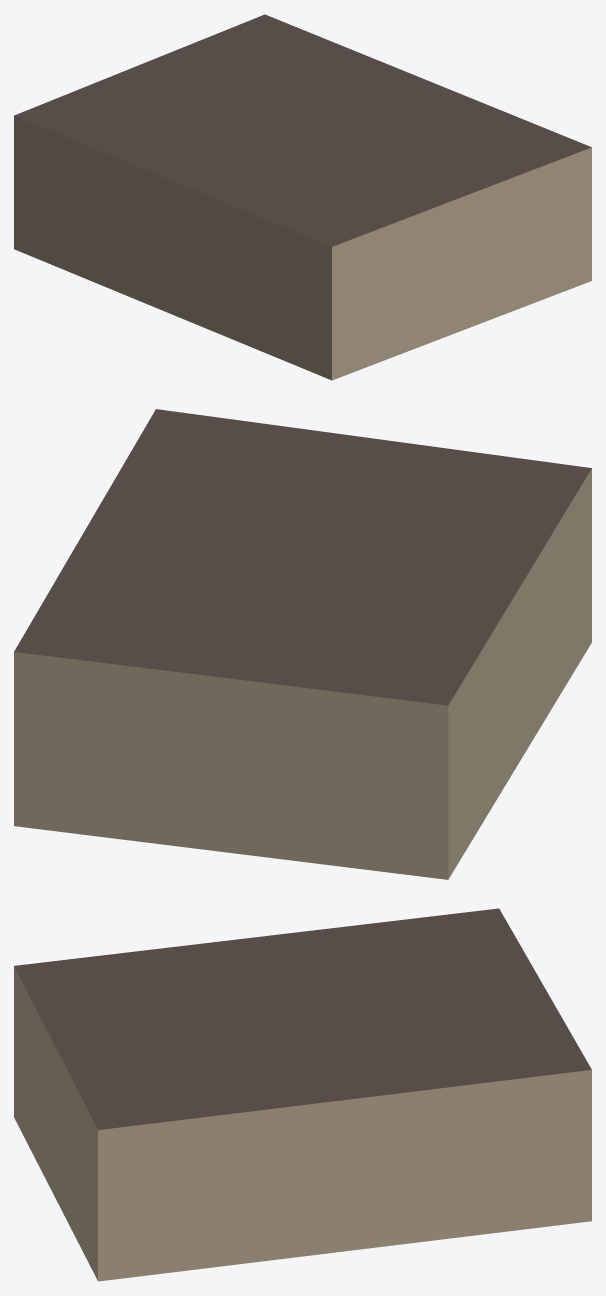
3 views of the same model, one above another, from view 1: azimuth 30°, elevation 25°; view 2: azimuth 150°, elevation 25°; view 3: azimuth 270°, elevation 25° (orthographic). The views are drawn at different scales.
Visible parts, largest first — view 1: HP-w1196661476; view 2: HP-w1196661476; view 3: HP-w1196661476.
Part boxes in pixels (x1,y1,x2,y2): HP-w1196661476: (14, 14, 591, 380); HP-w1196661476: (14, 409, 591, 879); HP-w1196661476: (14, 908, 591, 1281).
Size of the model in its own units: 28.27 by 9 by 31.14.
